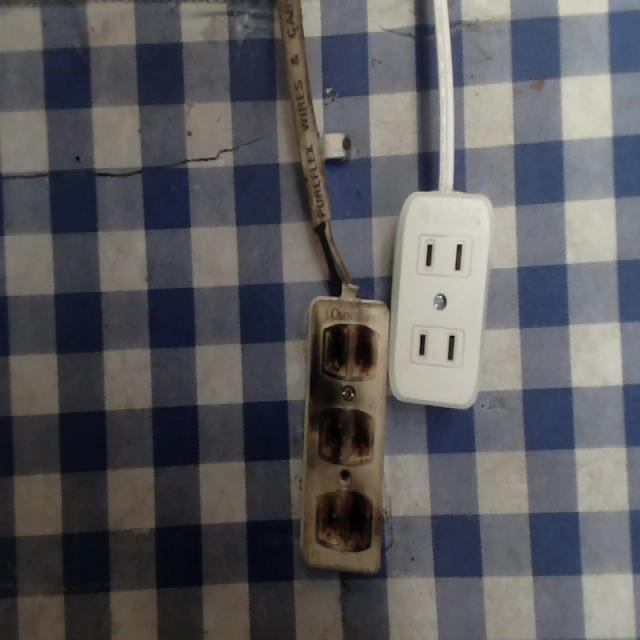-: (315, 315, 380, 385), (312, 484, 372, 555), (315, 401, 370, 468)
